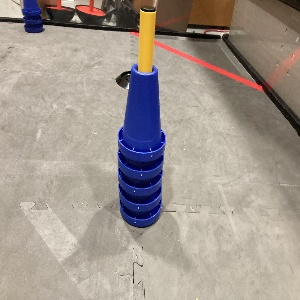Blue_3: (17, 0, 48, 35)
Blue_5: (114, 56, 168, 231)
